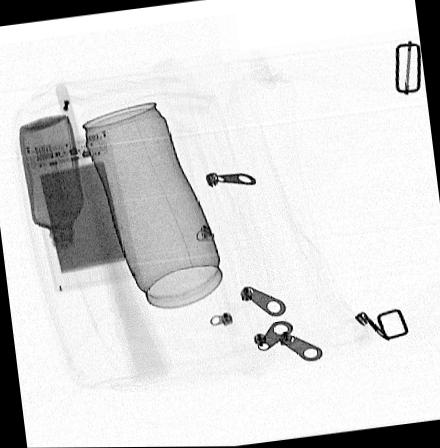Powerbank: (23, 129, 138, 292)
